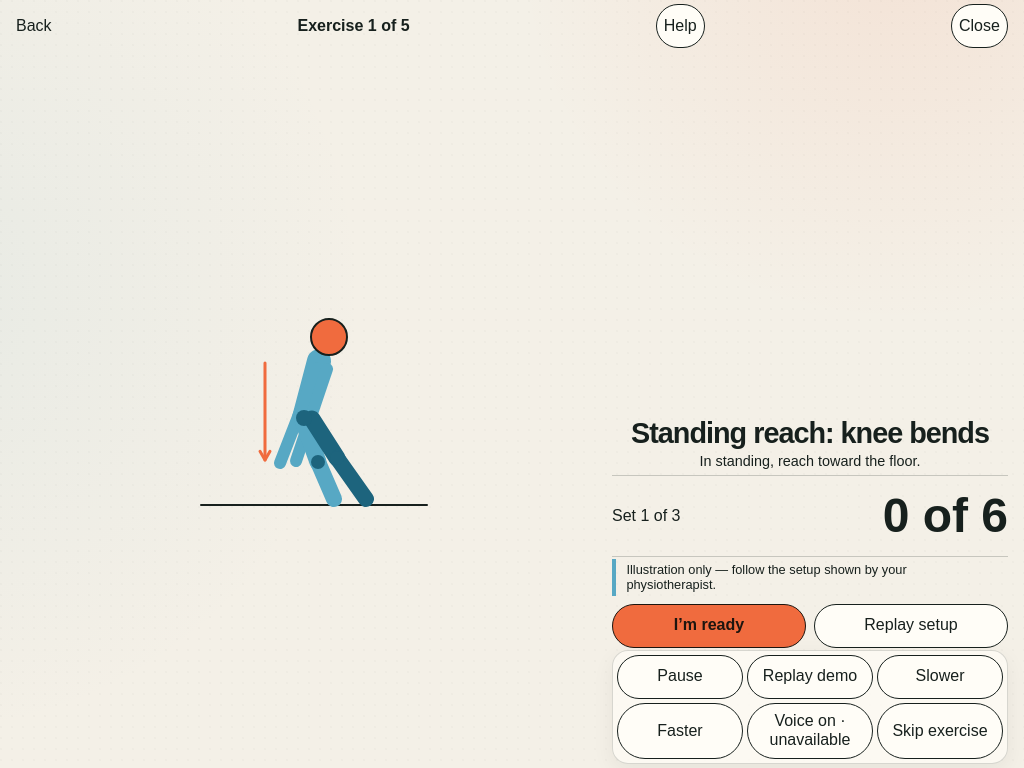
it: SessionPlayer › keeps the illustration boundary visible at readiness and starts preparation from one I’m ready gesture
The width and height of the screenshot is (1024, 768).
Check: the text "Illustration" is shown, box left=626, top=562, right=907, bottom=592
Click the button "I’m ready".
click(709, 626)  # box left=612, top=604, right=806, bottom=648
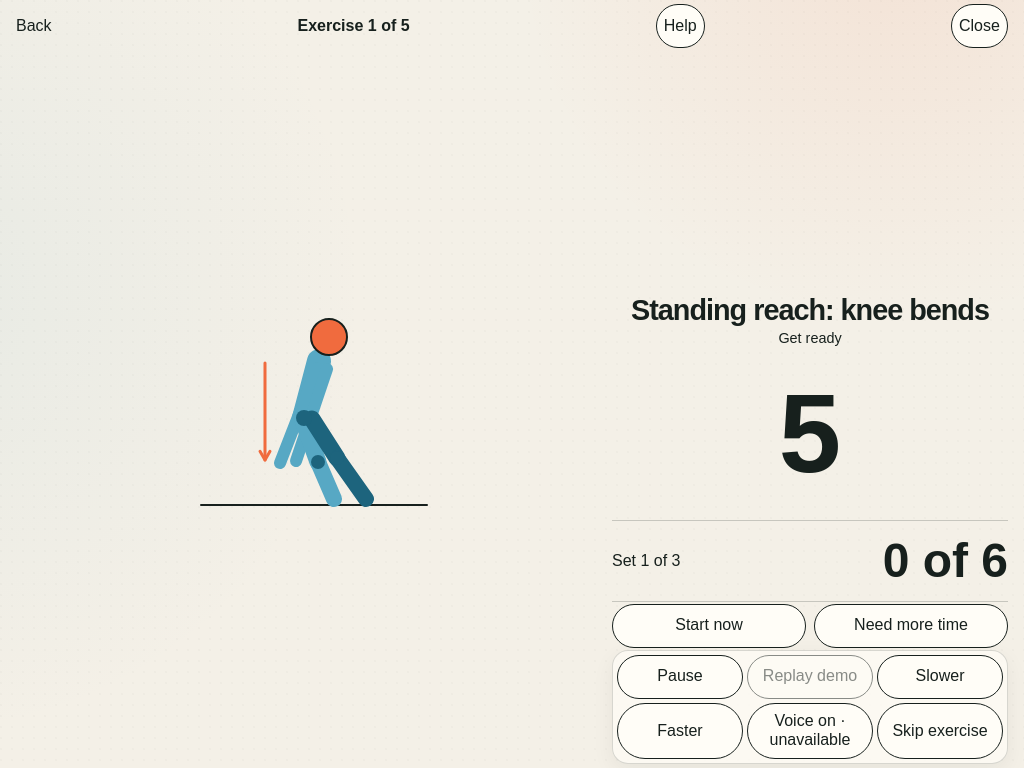
Check: the text "Get ready" is shown, box left=778, top=330, right=842, bottom=346
